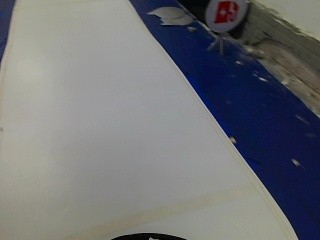battery: (207, 0, 246, 32)
